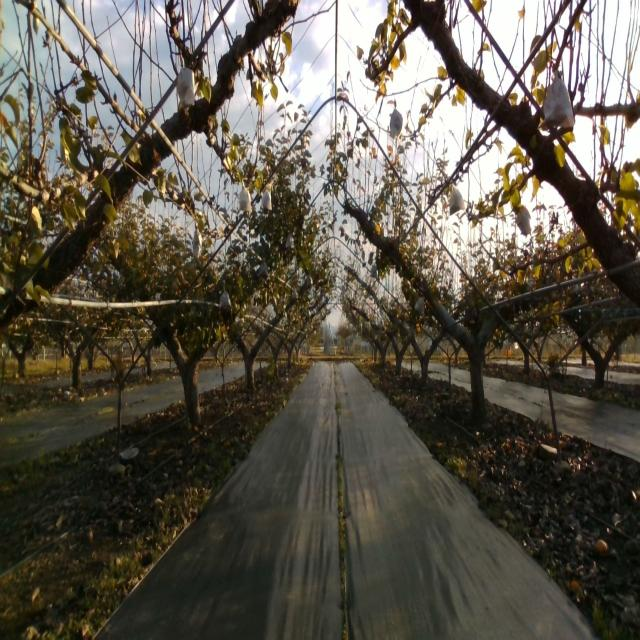pearbags: (538, 70, 574, 128), (177, 54, 195, 115), (389, 100, 403, 139), (516, 205, 531, 237), (449, 187, 464, 216), (239, 181, 252, 214), (192, 222, 202, 260), (218, 291, 232, 313), (260, 187, 272, 211)
